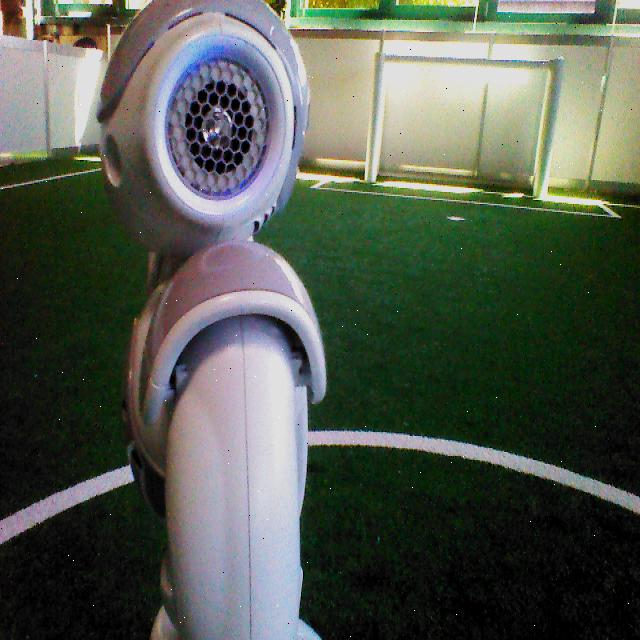goalpost: (531, 60, 565, 199), (364, 53, 388, 180)
